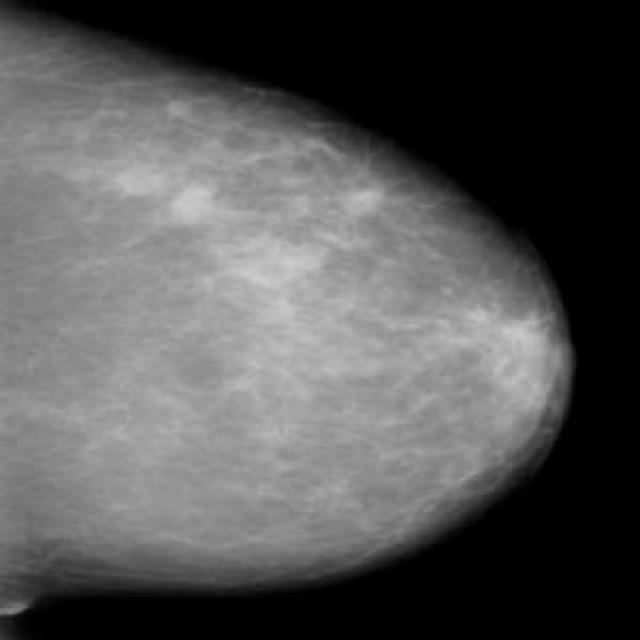tumor: (116, 131, 402, 306), (472, 300, 562, 456)
